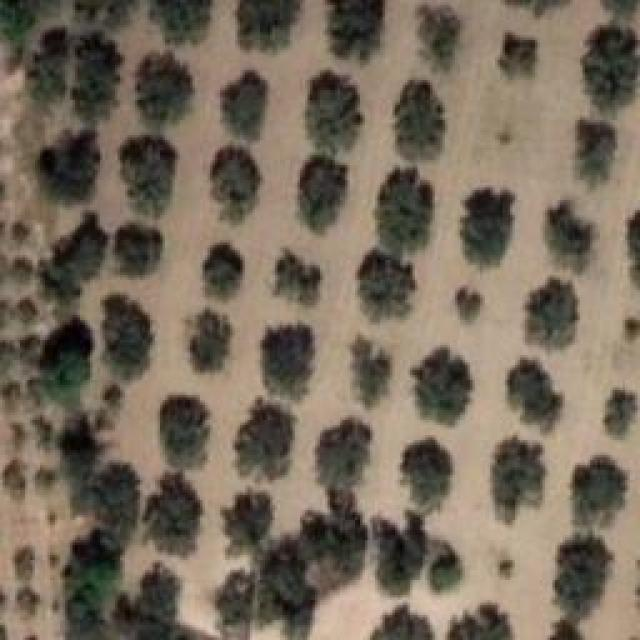Tree: (250, 495, 368, 640), (58, 533, 122, 640), (118, 560, 203, 639), (43, 213, 109, 304), (577, 25, 640, 112), (50, 405, 99, 516), (490, 433, 548, 524), (545, 533, 610, 613), (375, 168, 433, 255), (372, 510, 430, 594), (238, 398, 297, 480), (70, 33, 123, 124), (305, 70, 363, 153), (40, 318, 94, 405), (413, 348, 474, 425), (148, 473, 204, 556), (568, 460, 633, 530), (120, 138, 176, 219), (408, 5, 472, 74), (40, 130, 99, 203), (358, 250, 417, 322), (103, 295, 152, 381), (460, 188, 514, 266), (508, 357, 563, 432), (395, 80, 446, 160), (138, 53, 194, 124), (263, 323, 314, 400), (93, 462, 142, 542), (315, 418, 371, 488), (213, 145, 263, 222), (300, 155, 349, 232), (528, 278, 579, 349), (160, 395, 209, 468), (403, 436, 455, 504), (545, 200, 593, 272), (218, 490, 278, 547), (328, 0, 384, 58), (223, 70, 269, 140), (27, 30, 69, 105), (495, 25, 542, 90), (350, 335, 391, 408), (573, 115, 617, 183), (240, 0, 300, 49), (150, 0, 212, 43), (190, 310, 233, 372), (275, 250, 321, 306), (448, 602, 516, 639), (115, 223, 163, 275), (213, 572, 255, 630), (203, 243, 243, 299), (367, 607, 434, 640), (425, 543, 465, 597), (602, 383, 640, 433), (75, 0, 137, 28), (503, 0, 578, 18), (625, 208, 640, 291), (595, 0, 640, 24), (10, 543, 39, 580), (455, 288, 483, 324), (15, 582, 46, 614), (30, 468, 62, 498), (617, 308, 639, 351), (3, 463, 30, 498), (25, 413, 51, 447), (548, 617, 586, 639), (15, 335, 40, 368), (13, 255, 37, 288), (5, 420, 29, 450), (0, 380, 19, 415), (15, 298, 37, 327), (497, 555, 519, 580), (10, 215, 31, 241), (0, 336, 18, 364), (40, 507, 62, 528)
